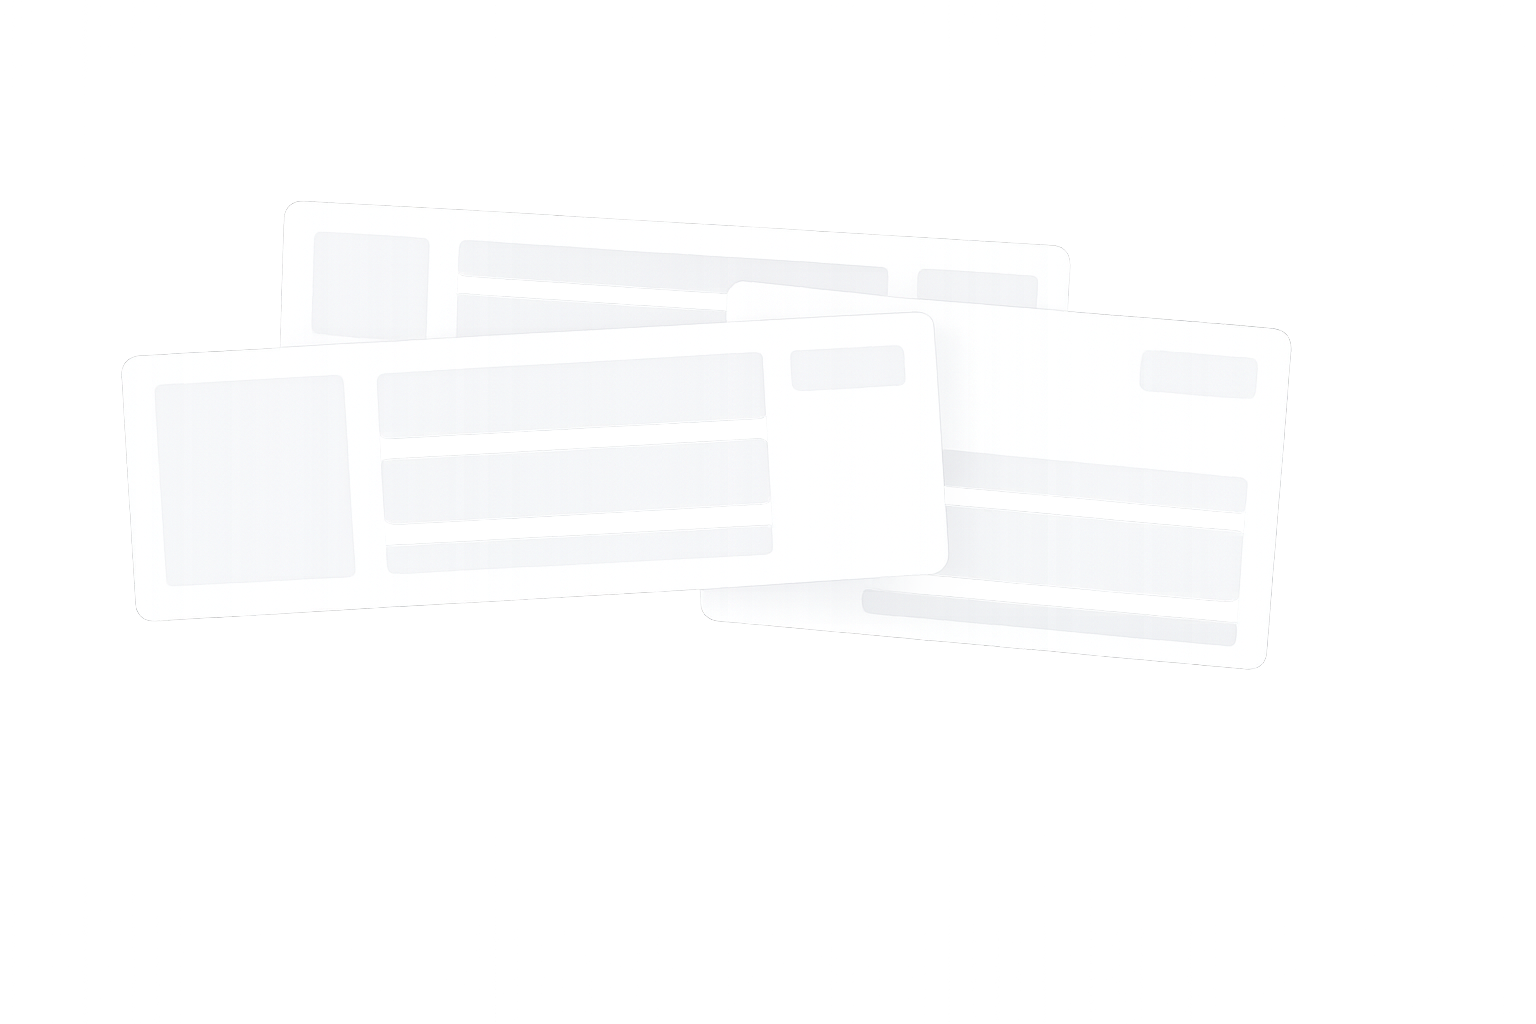

The page's visual inventory and layout, read from the dashboard file:
{"tool":"tableau","page":{"name":"Career overview","canvas":[1280,720],"ordinal":0},"visuals":[{"type":"worksheet","title":"Career timeline","mark":"GanttBar","rows":["Type","ExperienceID"],"cols":["Start_Month"],"box":[101.1,9.6,1059.8,361.2]},{"type":"legend","title":"Career timeline","param":"[federated.0o21e110o0i3wy1012xak0kw9wf9].[none:Experience:nk]","box":[319,20,837,18]},{"type":"filter","title":"Career timeline","param":"[federated.0o21e110o0i3wy1012xak0kw9wf9].[my:Start_Month:qk]","box":[119,377,393,67]},{"type":"worksheet","title":"Experience title","mark":"Text","box":[575,381,656,38]},{"type":"worksheet","title":"Experience desc","mark":"Text","box":[576,422,645,128]},{"type":"worksheet","title":"Select mx","mark":"Automatic","box":[627,456,514,220]},{"type":"worksheet","title":"Cert KPI","mark":"Automatic","box":[324,479,221,160]},{"type":"worksheet","title":"Skills KPI","mark":"Automatic","box":[126,480,192,168]},{"type":"worksheet","title":"Location map","mark":"Multipolygon","rows":["Latitude"],"cols":["Longitude"],"box":[577,513,636,166]}]}

Visuals, with their boxes on the page's 1280x720 design canvas (x1, y1, x2, y2). These are canvas units, not pixel positions in the 1536x1024 screenshot, which may show the page scaled, cropped or inside an application window:
"Career timeline" worksheet (GanttBar marks): locate(101, 10, 1161, 371)
"Career timeline" legend: locate(319, 20, 1156, 38)
"Career timeline" filter: locate(119, 377, 512, 444)
"Experience title" worksheet (Text marks): locate(575, 381, 1231, 419)
"Experience desc" worksheet (Text marks): locate(576, 422, 1221, 550)
"Select mx" worksheet: locate(627, 456, 1141, 676)
"Cert KPI" worksheet: locate(324, 479, 545, 639)
"Skills KPI" worksheet: locate(126, 480, 318, 648)
"Location map" worksheet (Multipolygon marks): locate(577, 513, 1213, 679)
